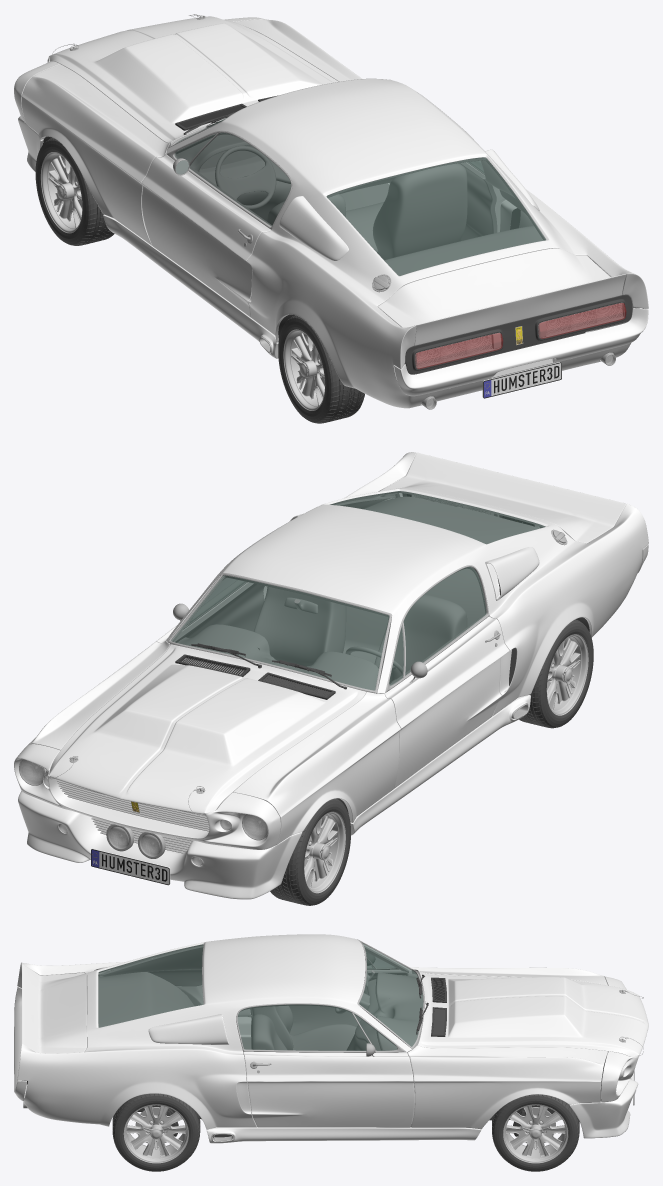
File: eleanor.glb
3 views of the same model, one above another, from view 1: azimuth 30°, elevation 25°; view 2: azimuth 150°, elevation 25°; view 3: azimuth 270°, elevation 25° (orthographic). The views are drawn at different scales.
Parts seen in each view (by area): view 1: Eleanor_ctrl, Wheel_FL_ctrl, Wheel_RL_ctrl; view 2: Eleanor_ctrl, Wheel_RL_ctrl, Wheel_FL_ctrl; view 3: Eleanor_ctrl, Wheel_FR_ctrl, Wheel_RR_ctrl.
Part boxes in pixels (x1=…): Eleanor_ctrl: x1=14, y1=14, x2=648, y2=409; Wheel_FL_ctrl: x1=278, y1=315, x2=364, y2=423; Wheel_RL_ctrl: x1=35, y1=137, x2=114, y2=245; Eleanor_ctrl: x1=14, y1=452, x2=648, y2=899; Wheel_RL_ctrl: x1=270, y1=798, x2=350, y2=905; Wheel_FL_ctrl: x1=519, y1=619, x2=593, y2=728; Eleanor_ctrl: x1=14, y1=934, x2=648, y2=1143; Wheel_FR_ctrl: x1=112, y1=1093, x2=200, y2=1171; Wheel_RR_ctrl: x1=492, y1=1094, x2=579, y2=1171.
Size of the model in its own units: 1.82 by 1.33 by 4.7.
